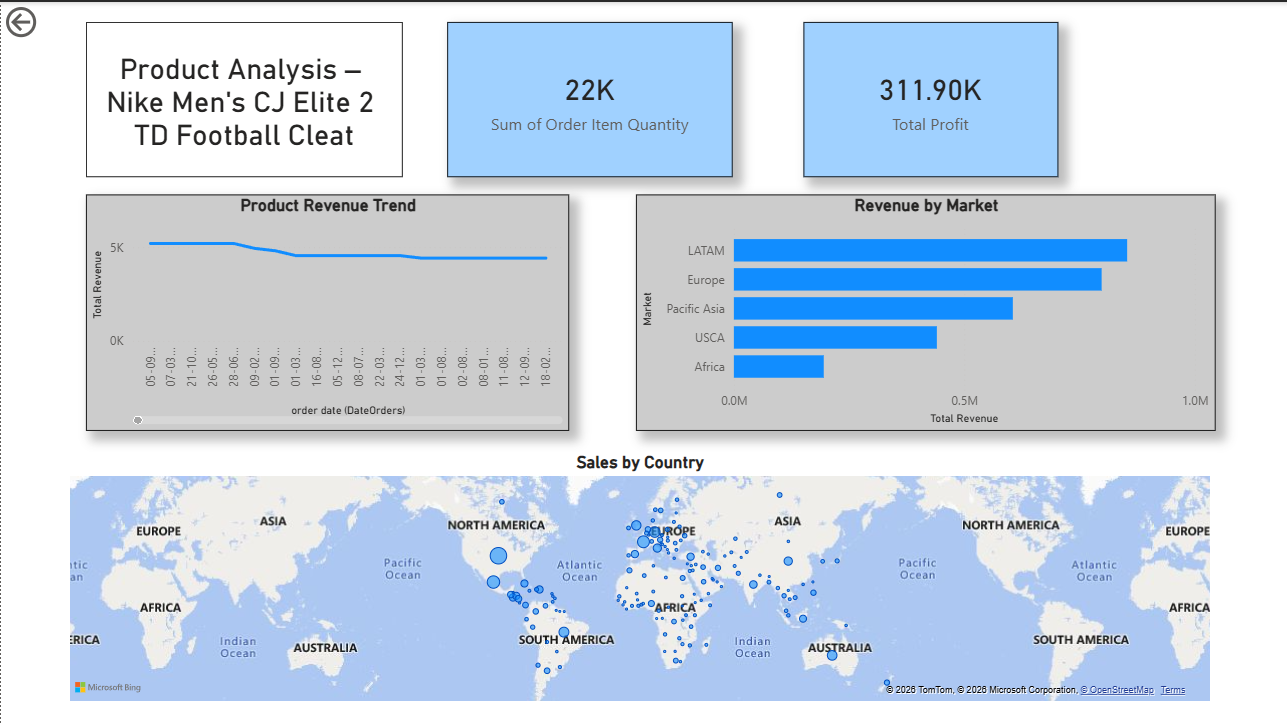

The dashboard page shown, as its layout file describes it:
{"tool":"powerbi","page":{"name":"Product Deep Dive","canvas":[1280,720],"ordinal":4},"visuals":[{"type":"actionButton","box":[0,0,100,40],"z":1},{"type":"lineChart","title":"Product Revenue Trend","fields":{"Category":["DataCoSupplyChainDataset.order date (DateOrders)"],"Y":["DataCoSupplyChainDataset.Total Revenue"]},"box":[85,191.6,480.7,234.9],"z":2},{"type":"barChart","title":"Revenue by Market","fields":{"Category":["DataCoSupplyChainDataset.Market"],"Y":["DataCoSupplyChainDataset.Total Revenue"]},"box":[632.1,191.6,576.5,234.9],"z":3},{"type":"card","fields":{"Values":["DataCoSupplyChainDataset.Total Profit"]},"box":[799,20.1,253.5,154.6],"z":4},{"type":"card","fields":{"Values":["Sum(DataCoSupplyChainDataset.Order Item Quantity)"]},"box":[443.6,20.1,284.4,154.6],"z":5},{"type":"map","title":"Sales by Country","fields":{"Category":["DataCoSupplyChainDataset.Order Country"],"Size":["DataCoSupplyChainDataset.Total Revenue"]},"box":[63.4,448.2,1145.2,253.5],"z":6},{"type":"card","fields":{"Values":["DataCoSupplyChainDataset.Product Title"]},"box":[85,20.1,315.3,154.6],"z":7}]}

Visuals, with their boxes in screenshot pixels (x1, y1, x2, y2), scaled from the page's 1280x720 canvas onto the 1287x725 screenshot:
actionButton: (0, 0, 101, 40)
"Product Revenue Trend" lineChart: (85, 193, 569, 429)
"Revenue by Market" barChart: (636, 193, 1215, 429)
card - DataCoSupplyChainDataset.Total Profit: (803, 20, 1058, 176)
card - Sum(DataCoSupplyChainDataset.Order Item Quantity): (446, 20, 732, 176)
"Sales by Country" map: (64, 451, 1215, 707)
card - DataCoSupplyChainDataset.Product Title: (85, 20, 402, 176)
